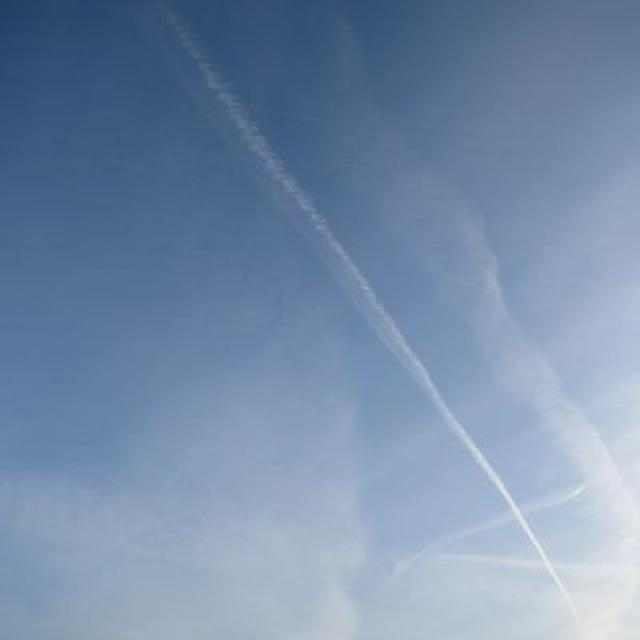Ct: (1, 49, 640, 591)
